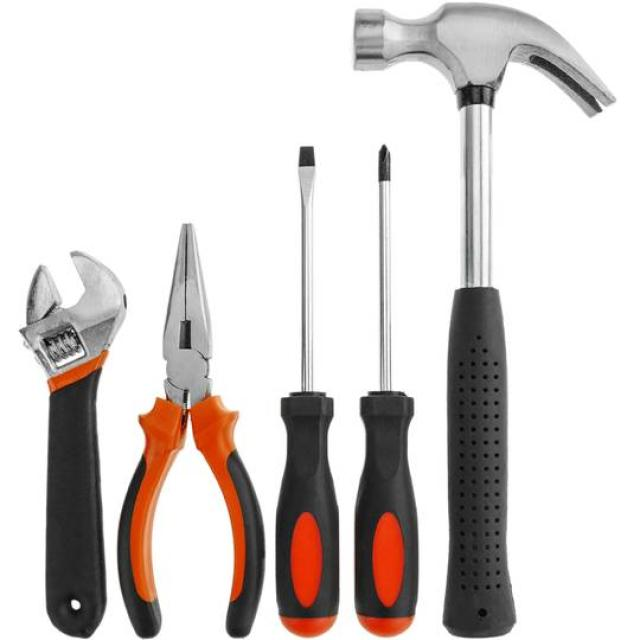Screwdriver: (355, 145, 419, 636), (276, 146, 339, 637)
